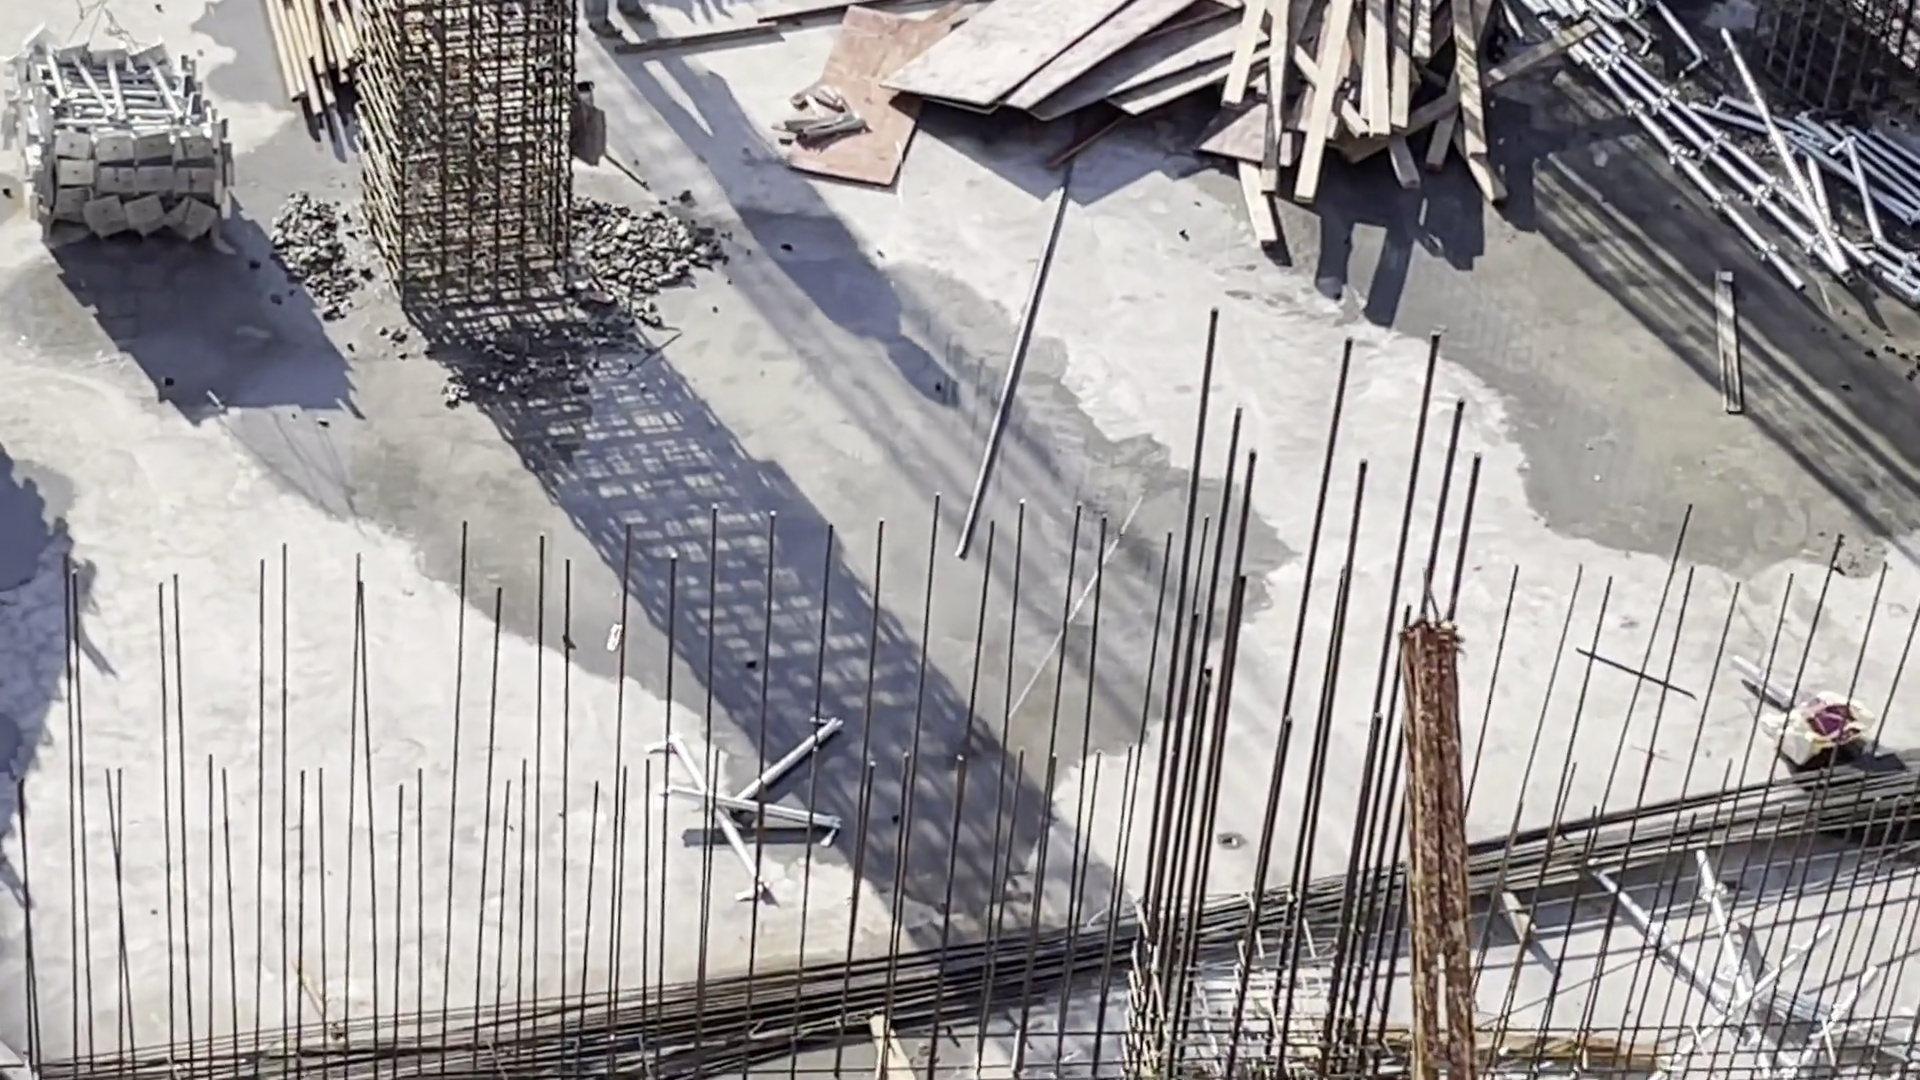board: (895, 1, 1230, 123)
rebar: (332, 787, 1913, 1079)
scaffold: (7, 38, 232, 264), (1735, 100, 1920, 247)
wood: (1218, 1, 1515, 157)
